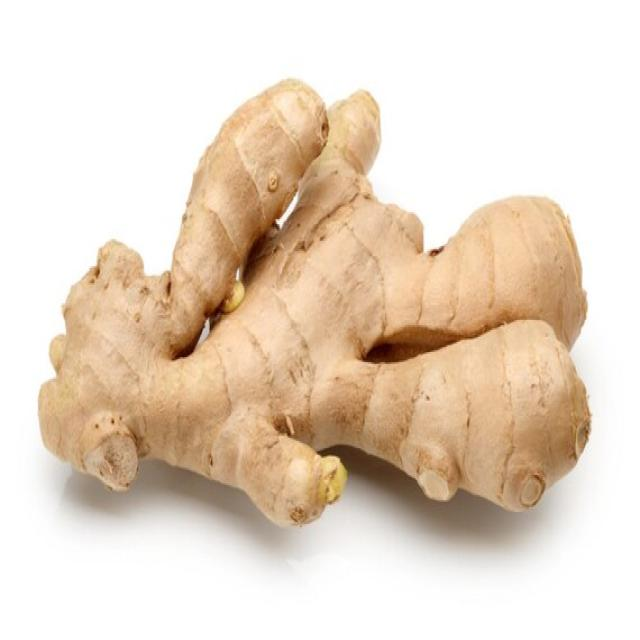ginger-root: (30, 73, 603, 545)
